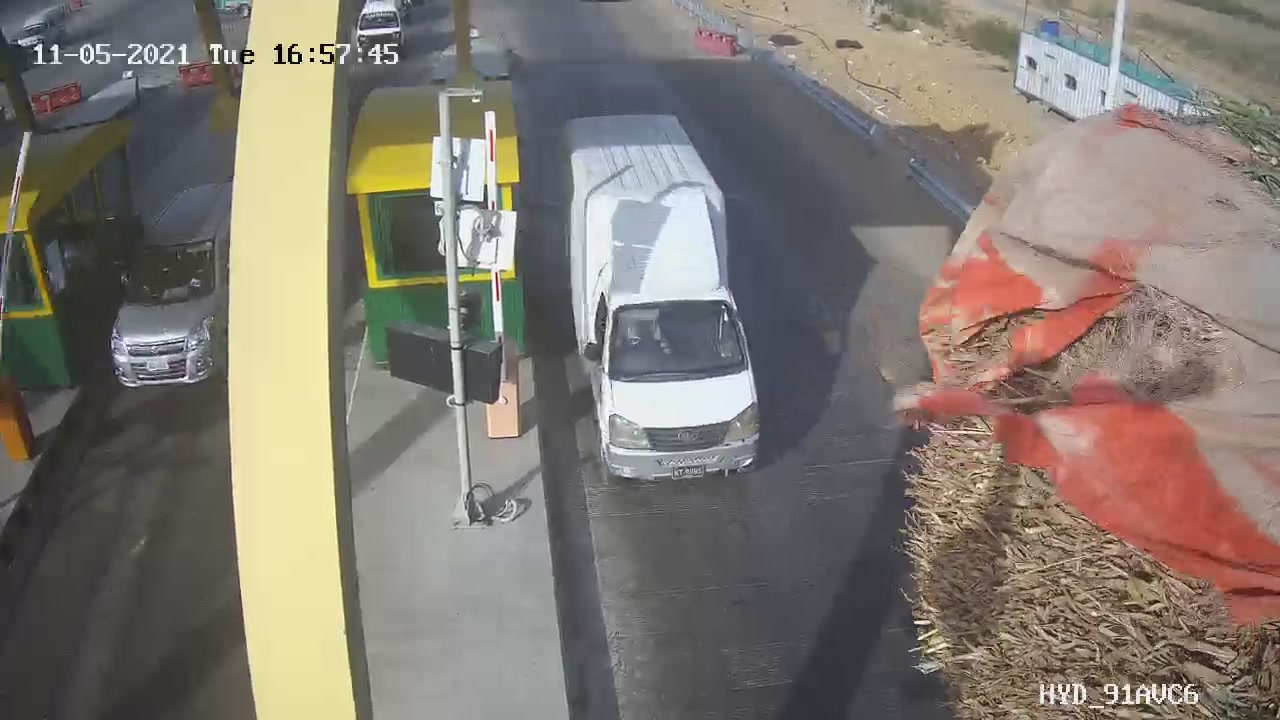F5: (538, 99, 796, 508)
